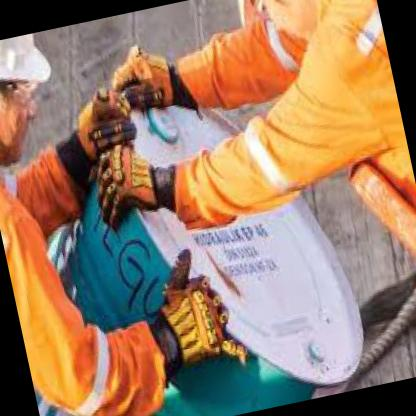Gloves: (134, 238, 252, 382), (86, 134, 184, 236), (106, 38, 184, 122), (68, 82, 140, 155)
